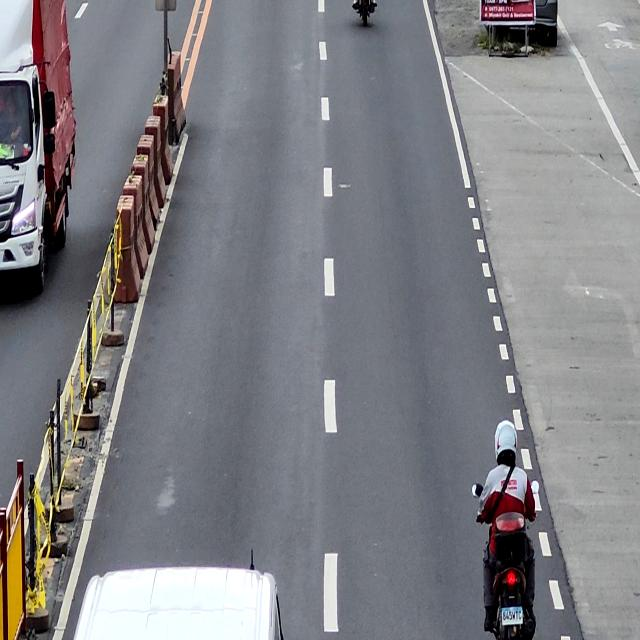License-Plate: (500, 606, 522, 625)
Motorcycle: (472, 479, 540, 640)
